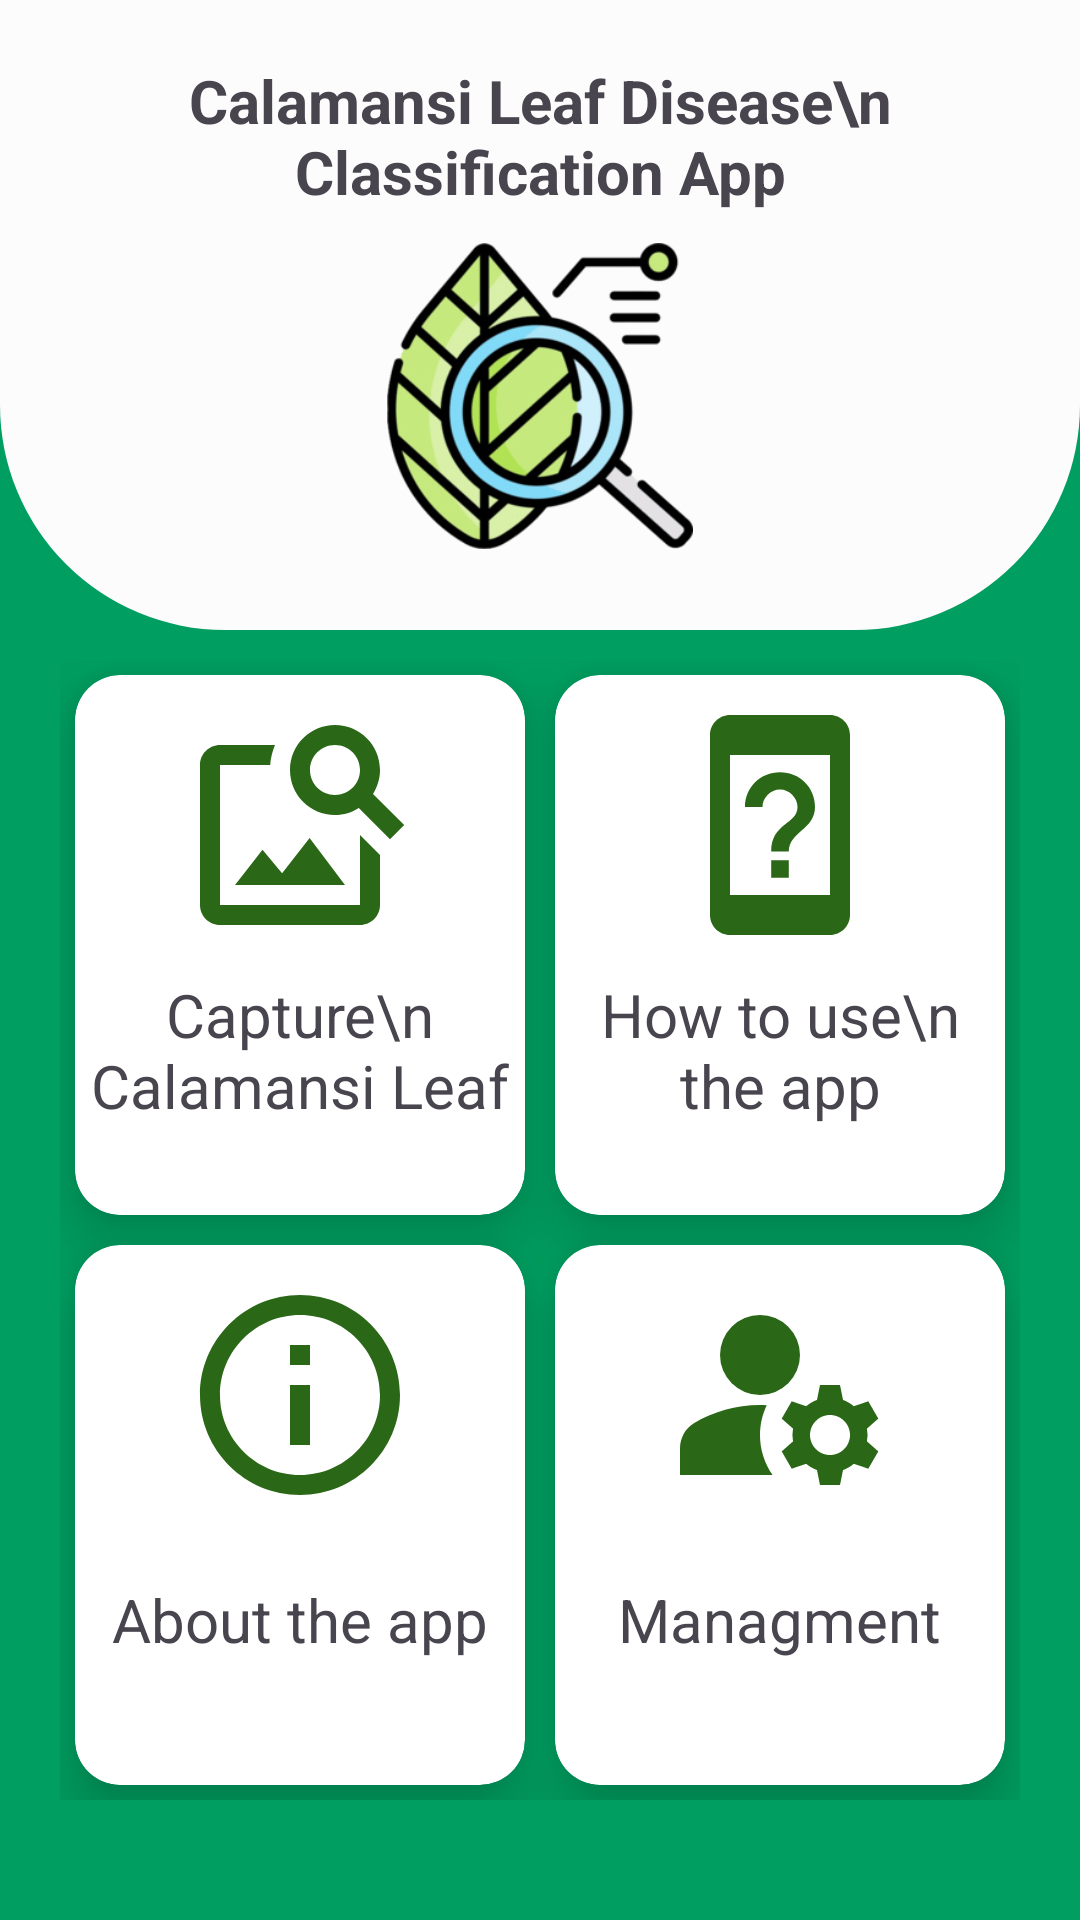

Named icons in this screenshot (1080w x 1920h) and their bounding boxes, (x1, y1, x2, y2):
info: (200, 1295, 400, 1495)
manage: (680, 1315, 879, 1485)
